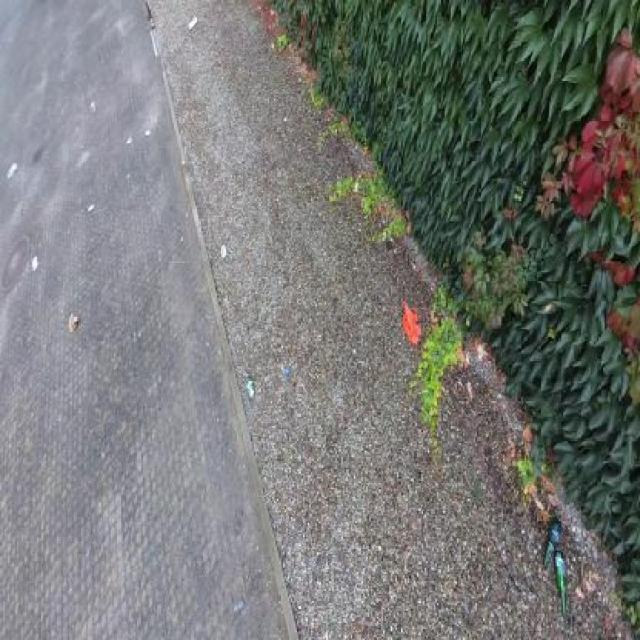Garbage: (554, 550, 568, 618), (401, 300, 421, 347), (545, 515, 562, 570), (146, 3, 155, 30), (150, 28, 158, 58), (68, 313, 79, 334), (246, 377, 255, 398), (8, 161, 18, 178), (188, 14, 198, 31), (32, 254, 39, 274), (219, 244, 227, 259), (90, 100, 96, 113), (284, 367, 290, 376), (88, 203, 94, 212), (182, 161, 186, 174), (145, 129, 151, 135), (126, 137, 131, 143)
